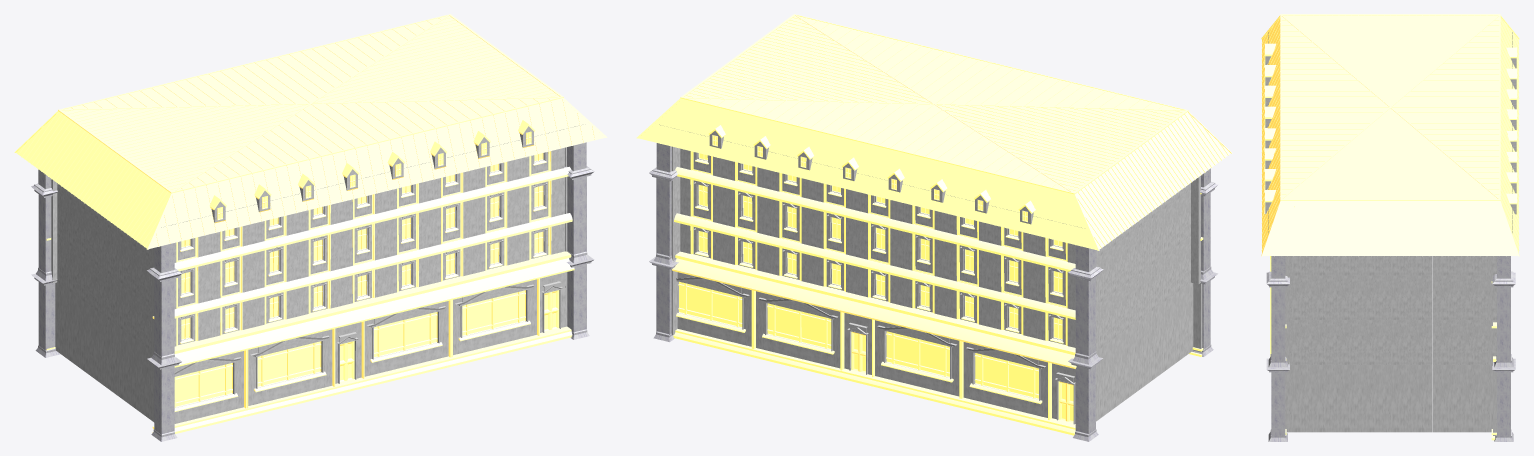
The model's file is Buiding 05.fbx.
3 renders of one model, left to right at view 1: azimuth 30°, elevation 25°; view 2: azimuth 150°, elevation 25°; view 3: azimuth 270°, elevation 25°, orthographic. The views are drawn at different scales.
Visible parts, largest first — view 1: TinRoof, Rectangular_Window_Wall_03_003_2, Rectangular_Window_Wall_03_003_1, Cube_17, Rectangular_Window_Wall_03_003_3, Cube_023__1__8, Rectangular_Long__Window__Frame_Design_02_003_1, Rectangular_Long__Window__Frame_Design_02_003_2, Rectangular_Long__Window__Frame_Design_02_003_3, Cube_023__1__9, Cube_16, Cube_023__1_ (+57 smaller); view 2: TinRoof, Rectangular_Window_Wall_03_003_5, Rectangular_Window_Wall_03_003_6, Rectangular_Window_Wall_03_003_7, Cube_25, Rectangular_Long__Window__Frame_Design_02_003_5, Cube_023__1__11, Rectangular_Long__Window__Frame_Design_02_003_6, Rectangular_Long__Window__Frame_Design_02_003_4, Rectangular_Long__Window__Frame_Design_02_003_7, Cube_24, Cube_023__1__3 (+57 smaller); view 3: TinRoof, Wall__1__17, Wall__7__7, Wall__3__17, Wall__6__7, Wall__5__7, Wall__2__17, Wall__8__5, Wall_11, Cube_023__1__9, Wall__7__9, Wall__3__19 (+30 smaller).
Boxes of the visible parts, <box> form: TinRoof: <box>14,14,607,249</box>; Rectangular_Window_Wall_03_003_2: <box>361,301,448,377</box>; Rectangular_Window_Wall_03_003_1: <box>248,329,332,405</box>; Cube_17: <box>352,251,571,309</box>; Rectangular_Window_Wall_03_003_3: <box>453,279,536,354</box>; Cube_023__1__8: <box>149,272,181,356</box>; Rectangular_Long__Window__Frame_Design_02_003_1: <box>257,341,320,386</box>; Rectangular_Long__Window__Frame_Design_02_003_2: <box>374,312,436,356</box>; Rectangular_Long__Window__Frame_Design_02_003_3: <box>462,290,524,335</box>; Cube_023__1__9: <box>567,171,593,254</box>; Cube_16: <box>174,303,356,353</box>; Cube_023__1_: <box>147,357,181,434</box>; TinRoof: <box>636,14,1232,250</box>; Rectangular_Window_Wall_03_003_5: <box>756,291,840,368</box>; Rectangular_Window_Wall_03_003_6: <box>875,320,959,396</box>; Rectangular_Window_Wall_03_003_7: <box>963,342,1047,417</box>; Cube_25: <box>862,297,1075,355</box>; Rectangular_Long__Window__Frame_Design_02_003_5: <box>767,303,831,348</box>; Cube_023__1__11: <box>1068,271,1101,356</box>; Rectangular_Long__Window__Frame_Design_02_003_6: <box>886,331,949,376</box>; Rectangular_Long__Window__Frame_Design_02_003_4: <box>679,281,742,326</box>; Rectangular_Long__Window__Frame_Design_02_003_7: <box>975,353,1038,398</box>; Cube_24: <box>675,251,866,303</box>; Cube_023__1__3: <box>1068,357,1102,434</box>; TinRoof: <box>1261,14,1519,256</box>; Wall__1__17: <box>1333,365,1358,432</box>; Wall__7__7: <box>1407,365,1432,432</box>; Wall__3__17: <box>1432,365,1457,432</box>; Wall__6__7: <box>1358,365,1382,432</box>; Wall__5__7: <box>1309,365,1333,432</box>; Wall__2__17: <box>1383,365,1407,432</box>; Wall__8__5: <box>1457,365,1481,432</box>; Wall_11: <box>1285,365,1308,432</box>; Cube_023__1__9: <box>1267,284,1289,361</box>; Wall__7__9: <box>1407,275,1432,320</box>; Wall__3__19: <box>1432,275,1457,320</box>.
Bounding box in the file's own units: 4173 × 2074 × 2087.
